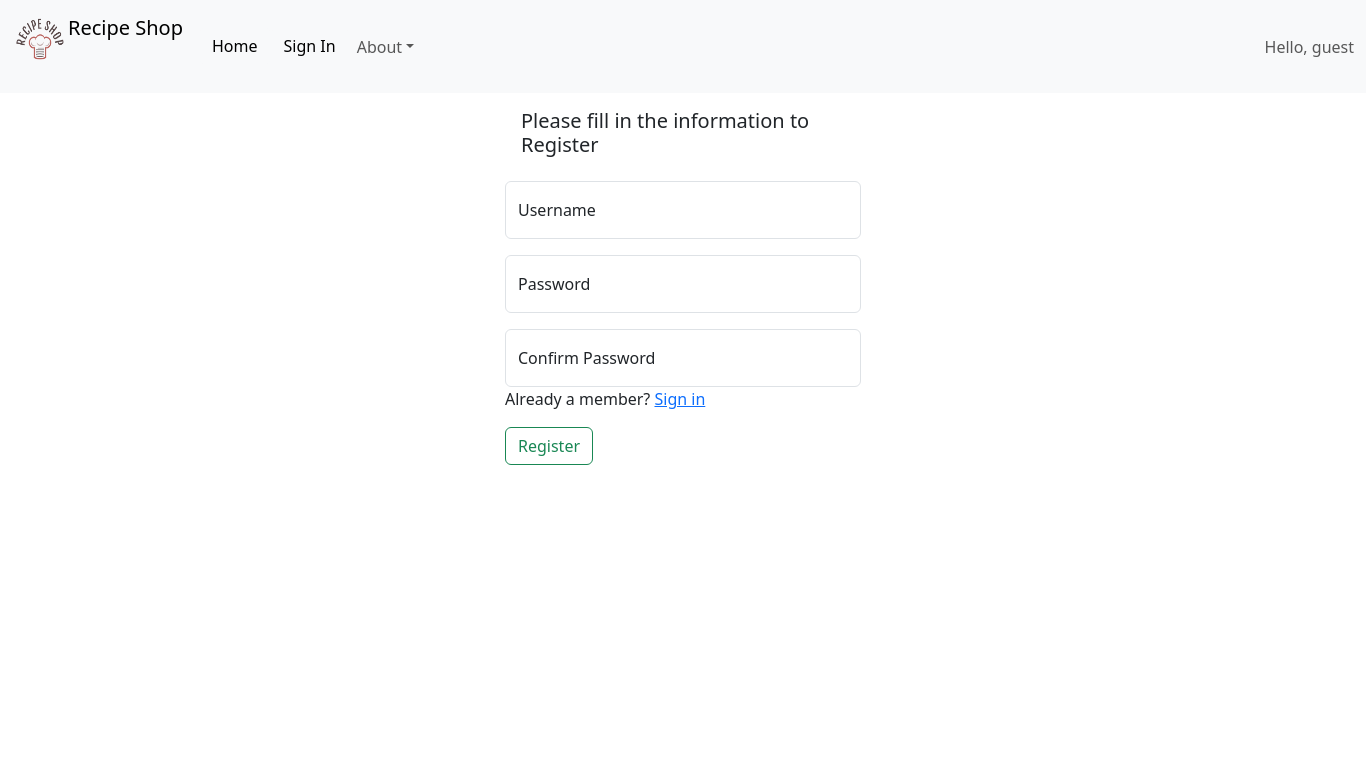
Register page UI functionality › Non matching passwords cannot be submitted
This screenshot has width=1366, height=768.
In the field with test id "r_username": (683, 210) [505,181,861,239], type "Hello123"
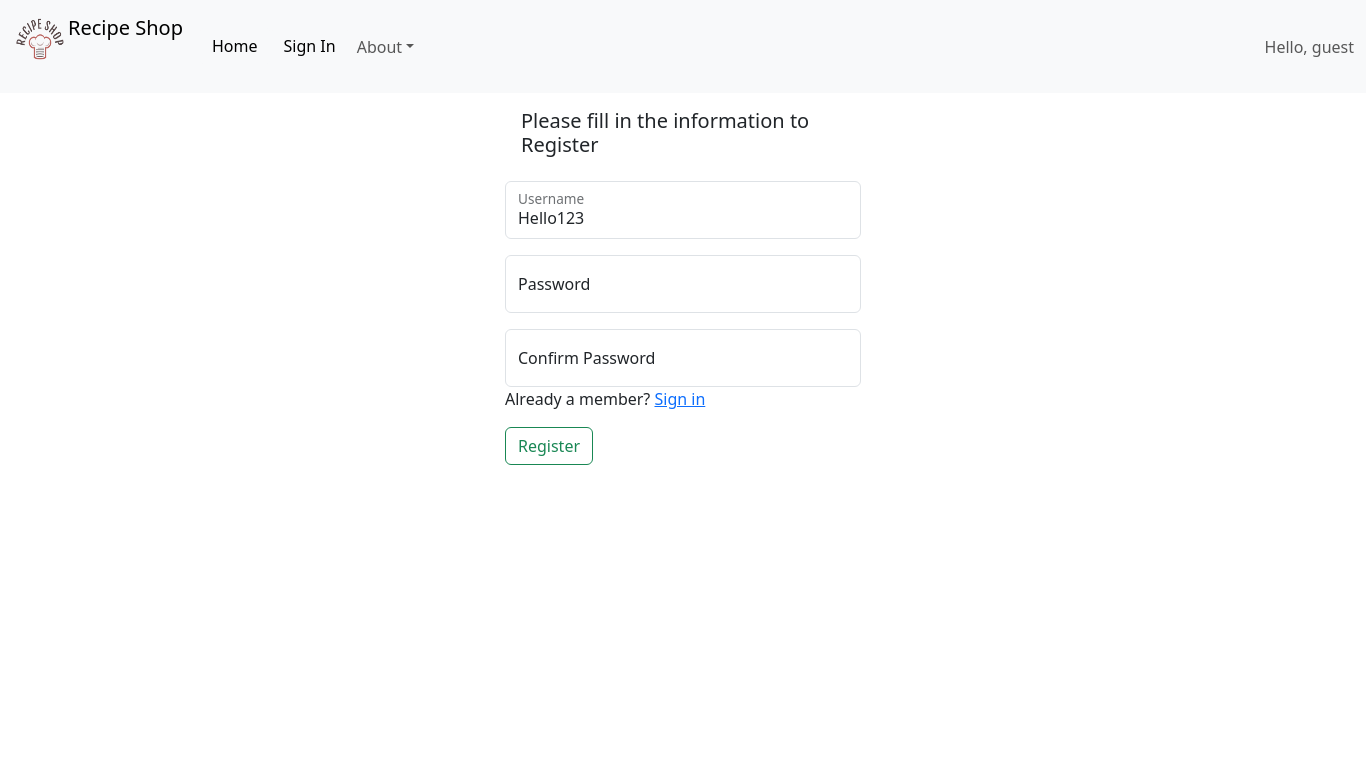
In the password field with test id "r_password": (683, 284) [505,255,861,313], type "Hello456"
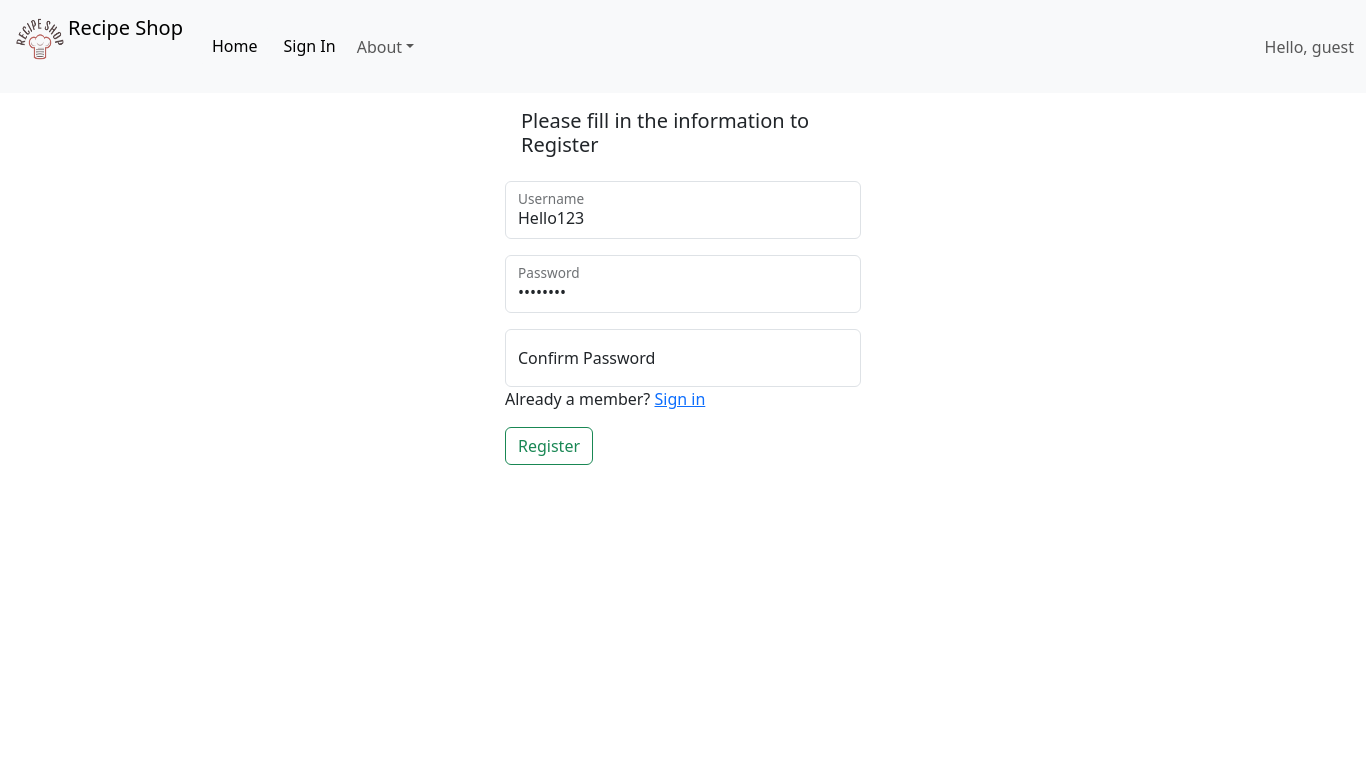
In the password field with test id "repeat_password": (683, 358) [505,329,861,387], type "Hello123"
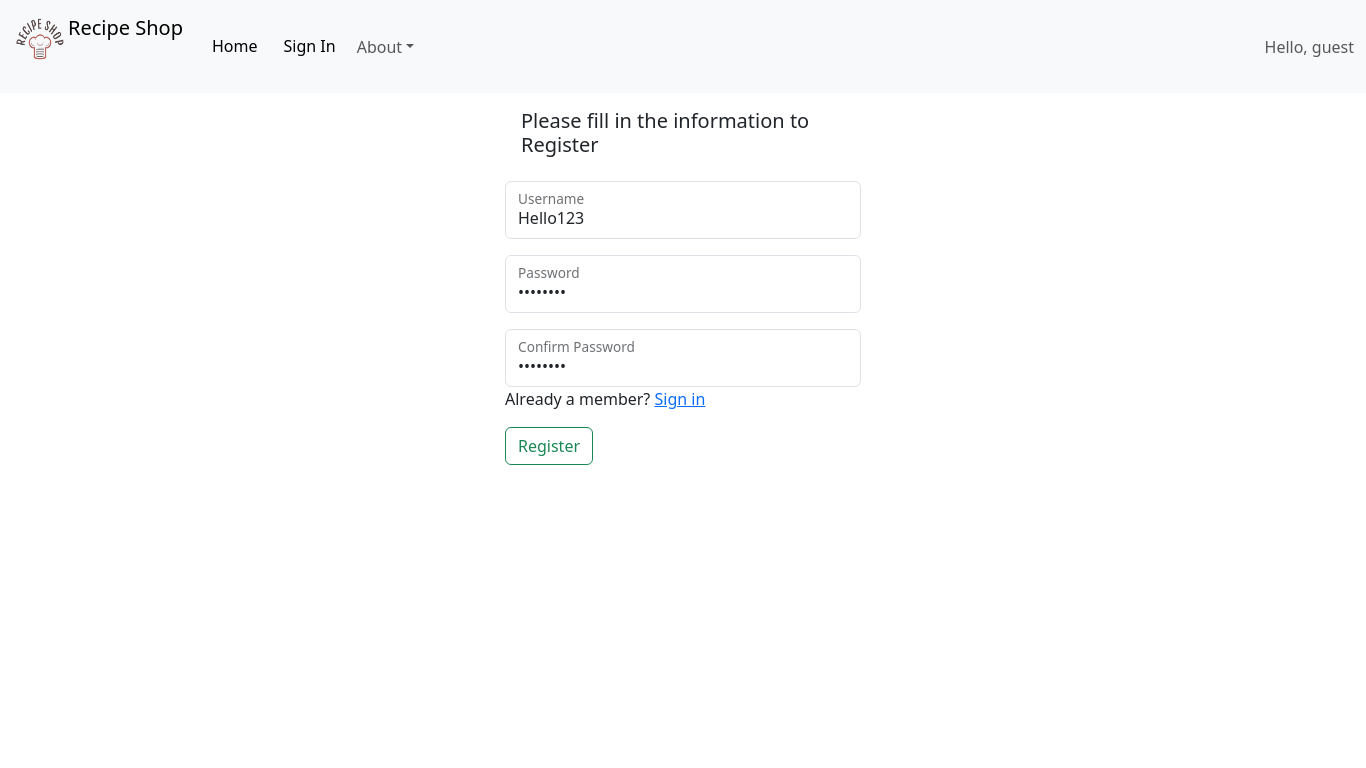
Click the button "Register": click(549, 446) [505,427,593,465]
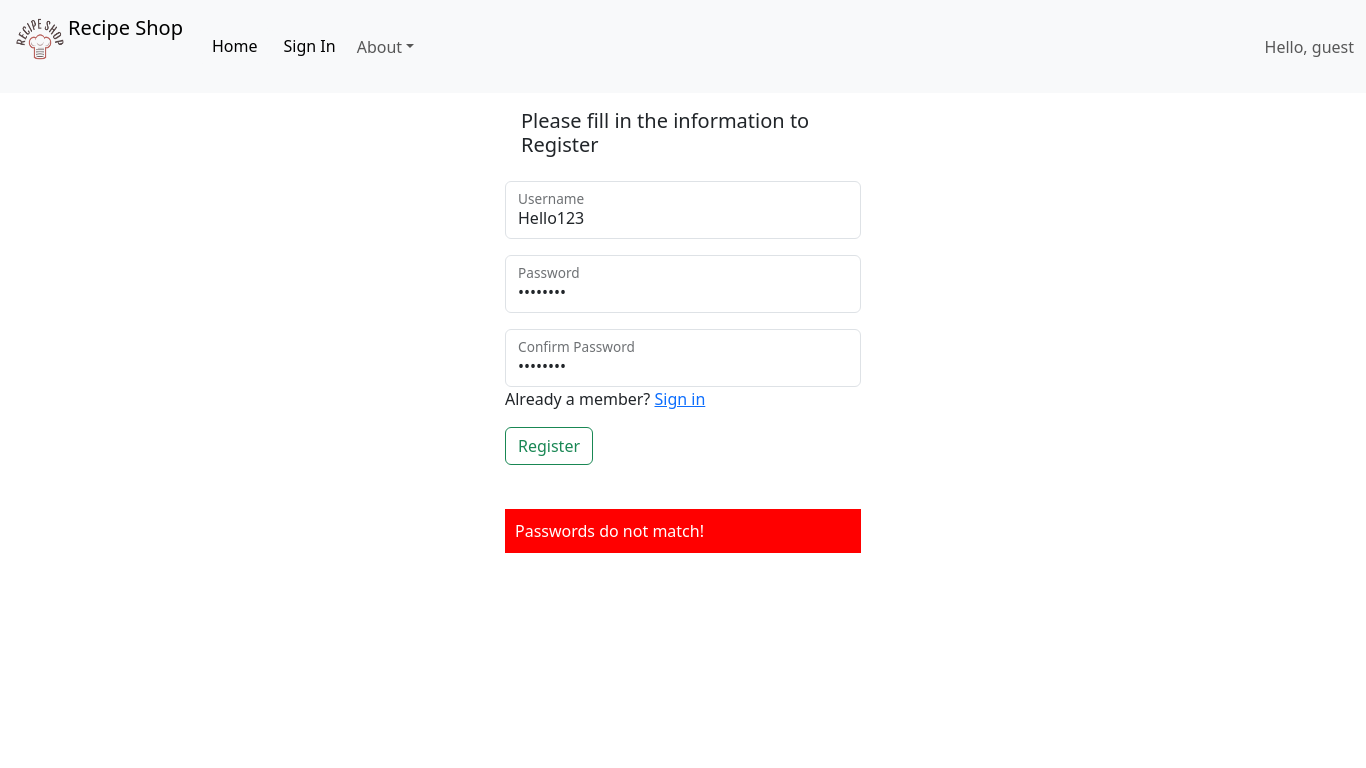
expect the text "Passwords do not match!" is shown: met, box [505,509,861,553]
